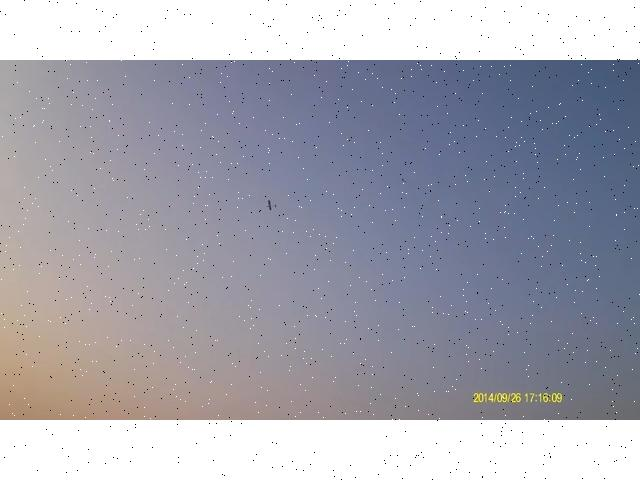Anti-Drone: (392, 173, 416, 191)
